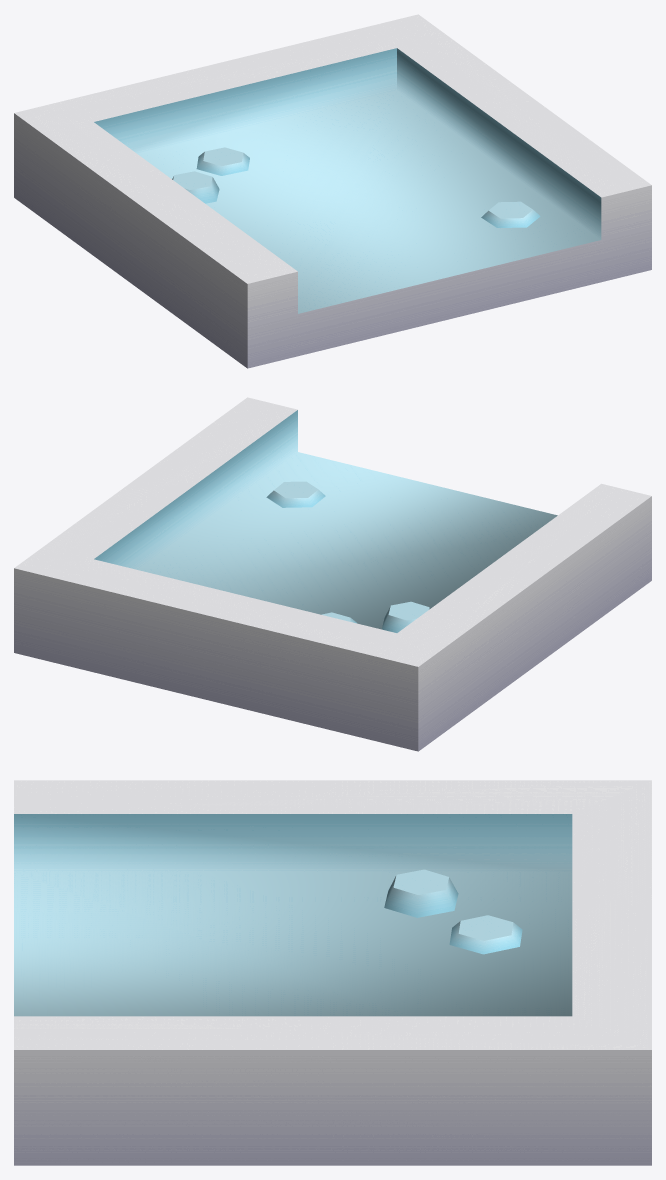
The model's file is snow-tile-end.glb.
3 views of the same model, one above another, from view 1: azimuth 30°, elevation 25°; view 2: azimuth 150°, elevation 25°; view 3: azimuth 270°, elevation 25° (orthographic). The views are drawn at different scales.
Parts seen in each view (by area): view 1: snow-tile-end; view 2: snow-tile-end; view 3: snow-tile-end.
Boxes of the visible parts, x1,y1,x2,y2 form: snow-tile-end: (14,14,651,368); snow-tile-end: (14,397,651,751); snow-tile-end: (14,780,651,1165).
Size of the model in its own units: 3 by 0.6 by 3.
1 material, 1 textured.
